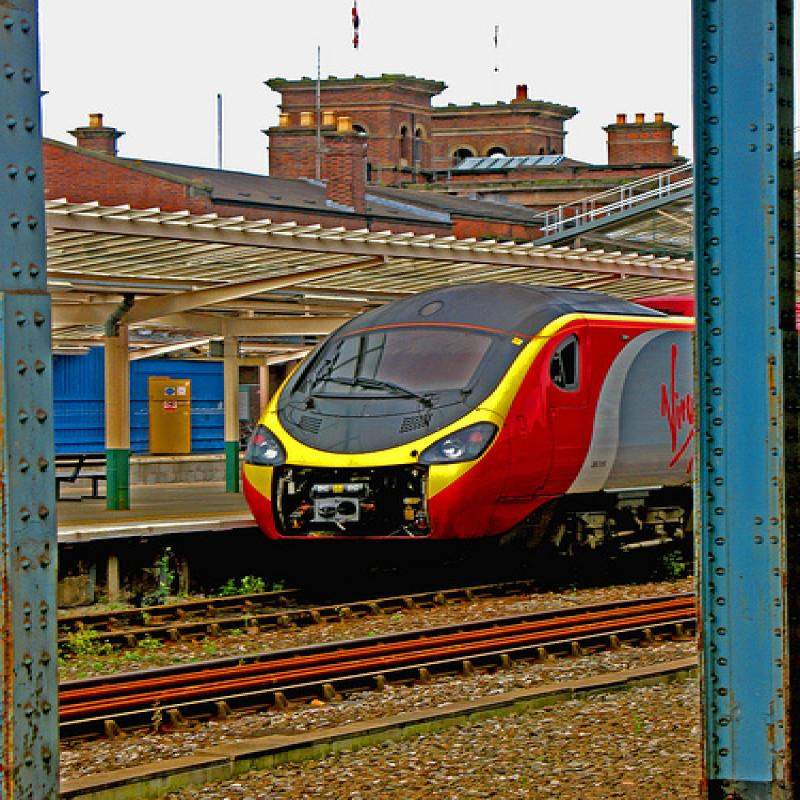train: (240, 288, 696, 573)
